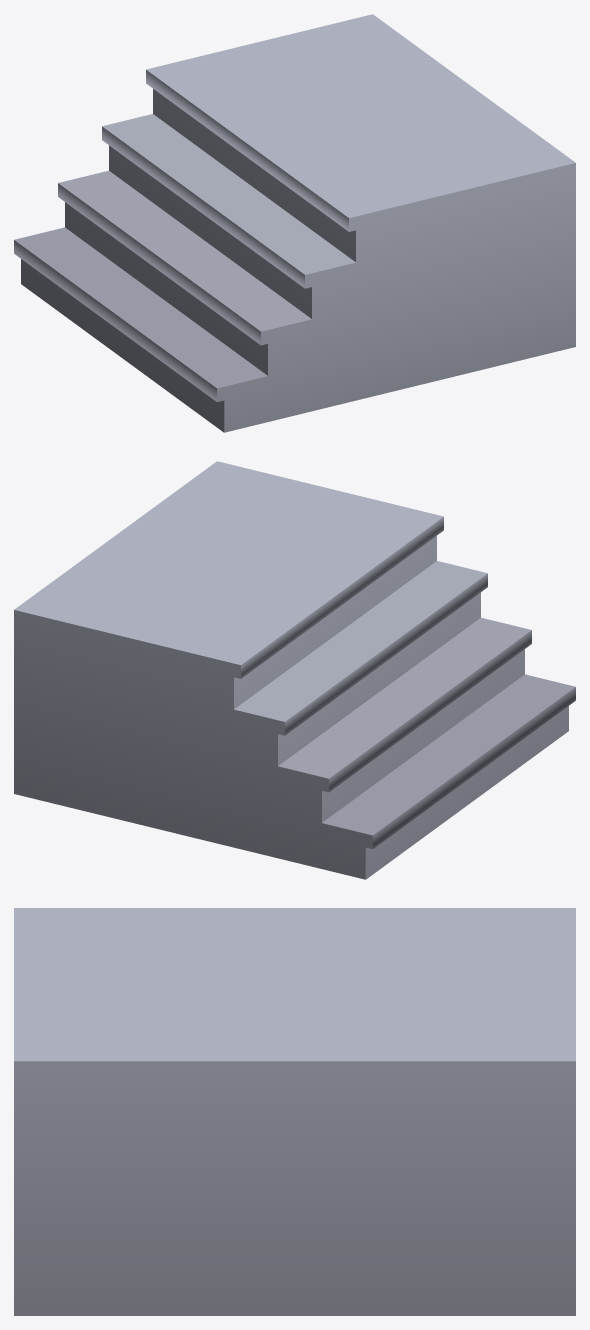
The model's file is stairs-full.glb.
3 views of the same model, one above another, from view 1: azimuth 30°, elevation 25°; view 2: azimuth 150°, elevation 25°; view 3: azimuth 270°, elevation 25° (orthographic). The views are drawn at different scales.
Parts seen in each view (by area): view 1: stairs-full; view 2: stairs-full; view 3: stairs-full.
Part boxes in pixels (x1=…): stairs-full: x1=14, y1=14, x2=575, y2=432; stairs-full: x1=14, y1=461, x2=575, y2=879; stairs-full: x1=14, y1=908, x2=575, y2=1315.
Bounding box in the file's own units: 1.02 × 0.5 × 1.
